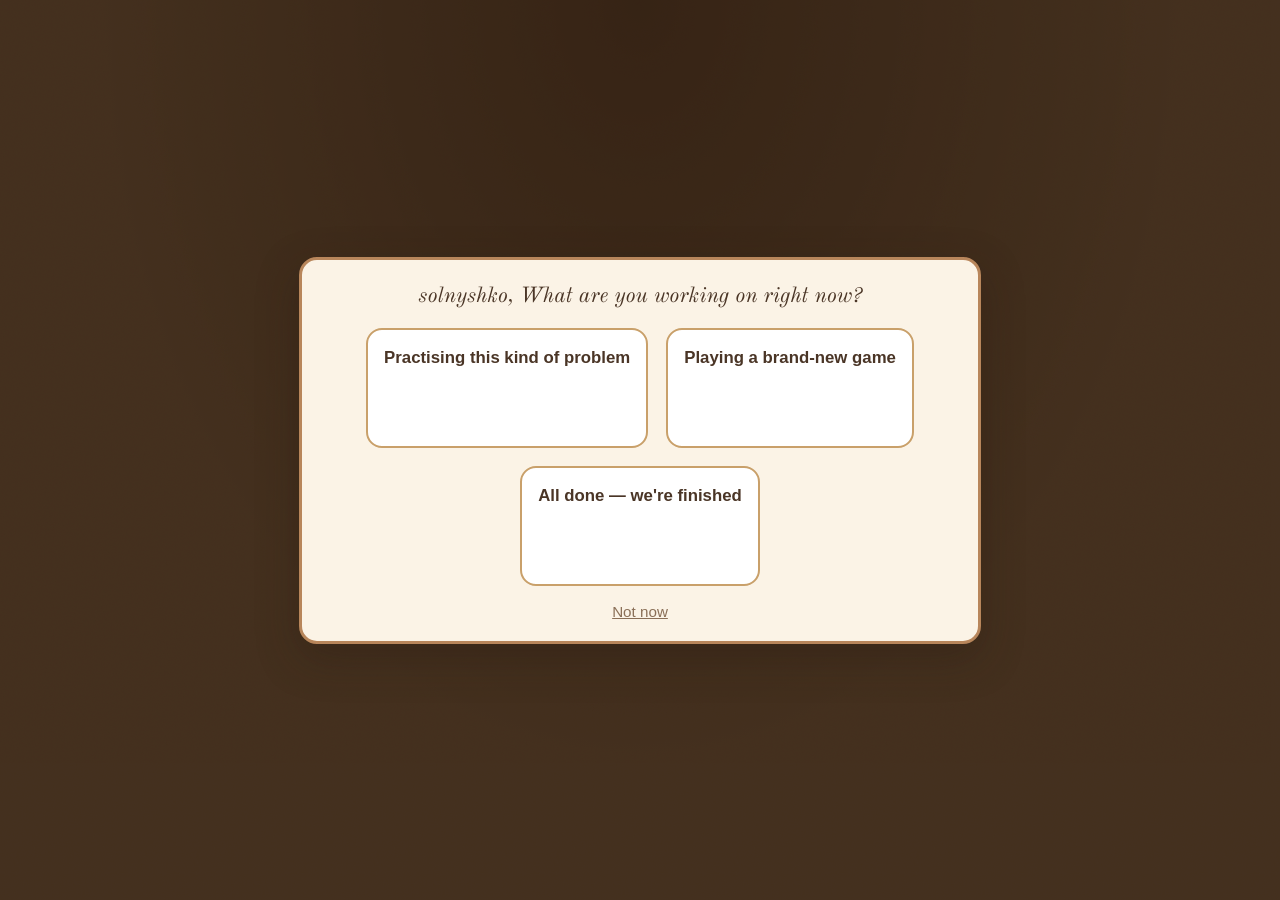
Test: SelfReportProbes — mounting + cadence › never double-prompts: after one probe, the next N-1 boundaries are silent
The image size is (1280, 900).
// Skip the first probe to free the opportunity.
Step 1. Click the button "Not now" → (640, 611), box [606,602,674,620]
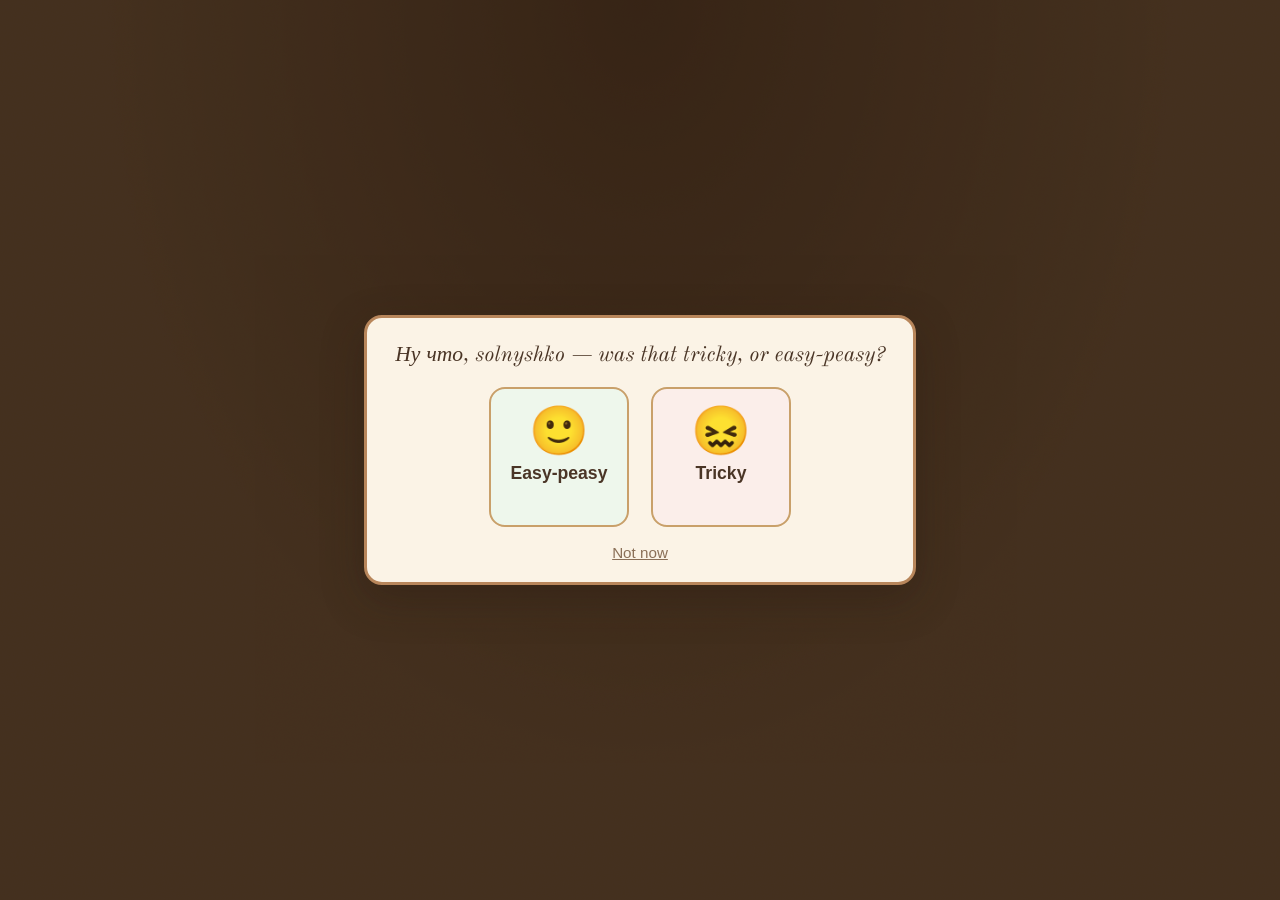
expect the dialog with test id "affect-probe" is shown: met
expect the dialog with test id "orientation-probe" is gone: met
